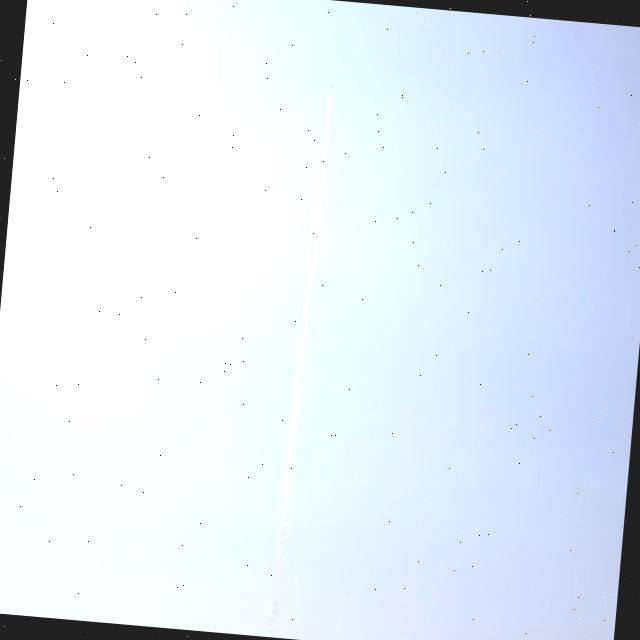smoke_trail_with_rocket: (267, 87, 330, 637)
